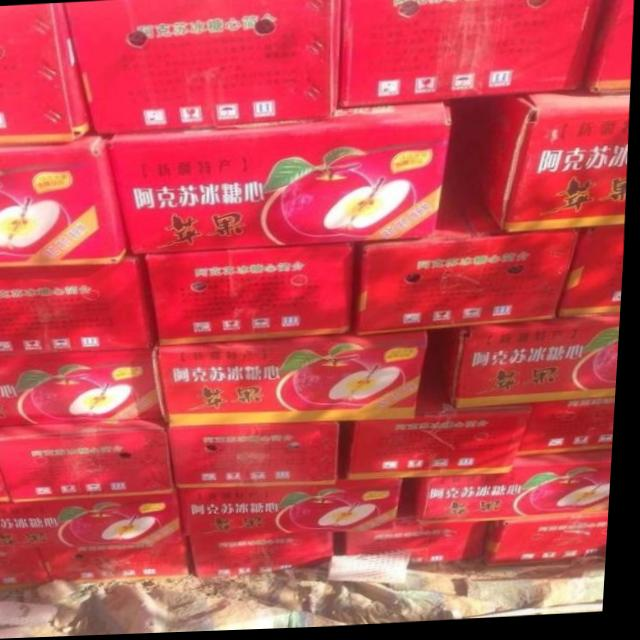box: (109, 104, 454, 255), (359, 166, 581, 336), (63, 0, 341, 135), (342, 0, 603, 109), (153, 333, 431, 427), (451, 94, 631, 236), (347, 357, 536, 482), (148, 245, 356, 345), (434, 319, 624, 410), (185, 460, 405, 538), (0, 137, 129, 268), (0, 256, 161, 355), (0, 420, 180, 503), (414, 454, 618, 525), (0, 4, 92, 143), (0, 348, 168, 424), (353, 485, 495, 566), (171, 424, 343, 490), (0, 495, 191, 547), (194, 533, 340, 581), (46, 540, 194, 584), (488, 519, 615, 570), (562, 230, 627, 320), (523, 402, 620, 461), (581, 0, 634, 98), (0, 543, 57, 590), (0, 452, 16, 501)
